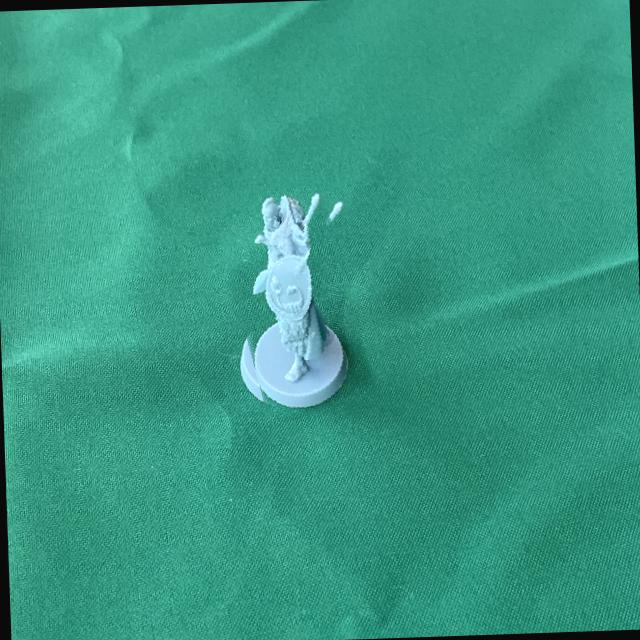isis_follower: (222, 179, 366, 419)
